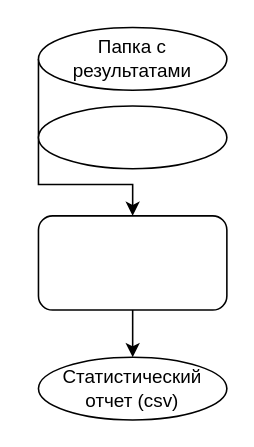
Image size: 254x447. Some labels were removed from this diagram. Here are the shapes that lost their labels. From the top down, the centre of each, then its label:
At (132,136): "Настройки классификации".
At (132,262): "Обработка и генерация отчета".
